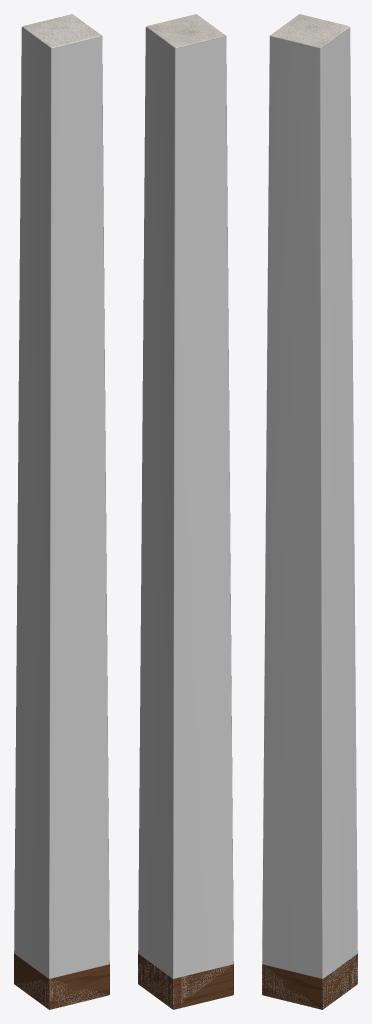
Rendered from SM_KitPilar.glb.
3 renders of one model, left to right at view 1: azimuth 30°, elevation 25°; view 2: azimuth 210°, elevation 25°; view 3: azimuth 330°, elevation 25°, orthographic.
Parts seen in each view (by area): view 1: SM_KitPilar_col, SM_KitPilar_Mesh; view 2: SM_KitPilar_col, SM_KitPilar_Mesh; view 3: SM_KitPilar_col, SM_KitPilar_Mesh.
Part boxes in pixels (<box>): SM_KitPilar_col: <box>14,14,109,1009</box>; SM_KitPilar_Mesh: <box>14,14,109,1009</box>; SM_KitPilar_col: <box>138,14,233,1009</box>; SM_KitPilar_Mesh: <box>138,14,233,1009</box>; SM_KitPilar_col: <box>262,14,357,1008</box>; SM_KitPilar_Mesh: <box>262,14,357,1009</box>.
Bounding box in the file's own units: 0.2 × 3 × 0.2.
2 materials, 2 textured.
